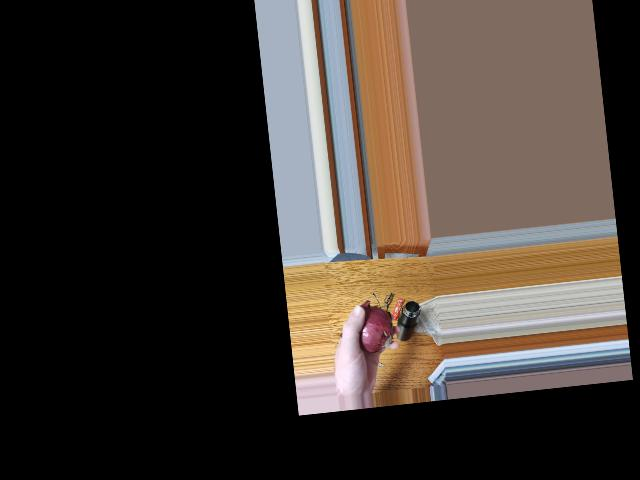onion: (350, 309, 394, 355)
